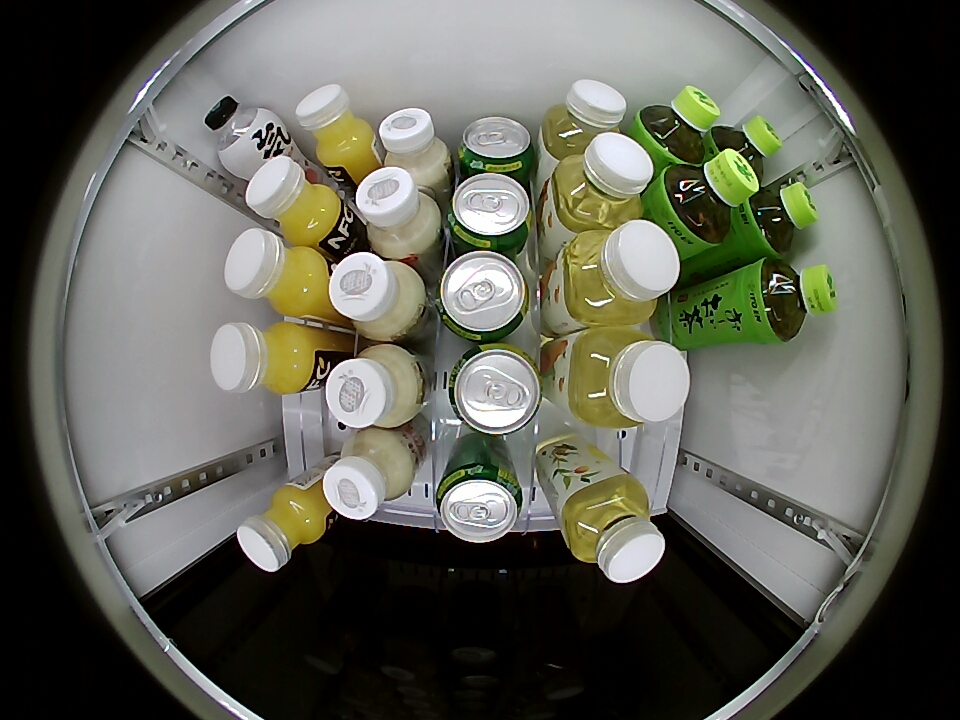chapai2: (557, 220, 680, 327), (562, 329, 689, 427), (560, 476, 665, 583), (547, 133, 652, 231), (541, 80, 628, 160)
nfc: (225, 229, 328, 316), (246, 157, 342, 243), (237, 483, 328, 572), (210, 320, 316, 396), (296, 84, 378, 168)
weiweidounai: (328, 251, 424, 341), (323, 429, 416, 521), (324, 344, 421, 430), (354, 166, 442, 258), (378, 107, 451, 186)
xuebi2: (446, 344, 543, 435), (436, 251, 531, 343), (435, 458, 524, 542), (446, 173, 534, 252), (457, 116, 535, 175)
yitengyuan: (656, 149, 758, 250), (752, 258, 837, 342), (635, 85, 720, 166), (742, 179, 818, 256), (712, 116, 783, 181)
yuanqishui: (204, 95, 282, 172)
